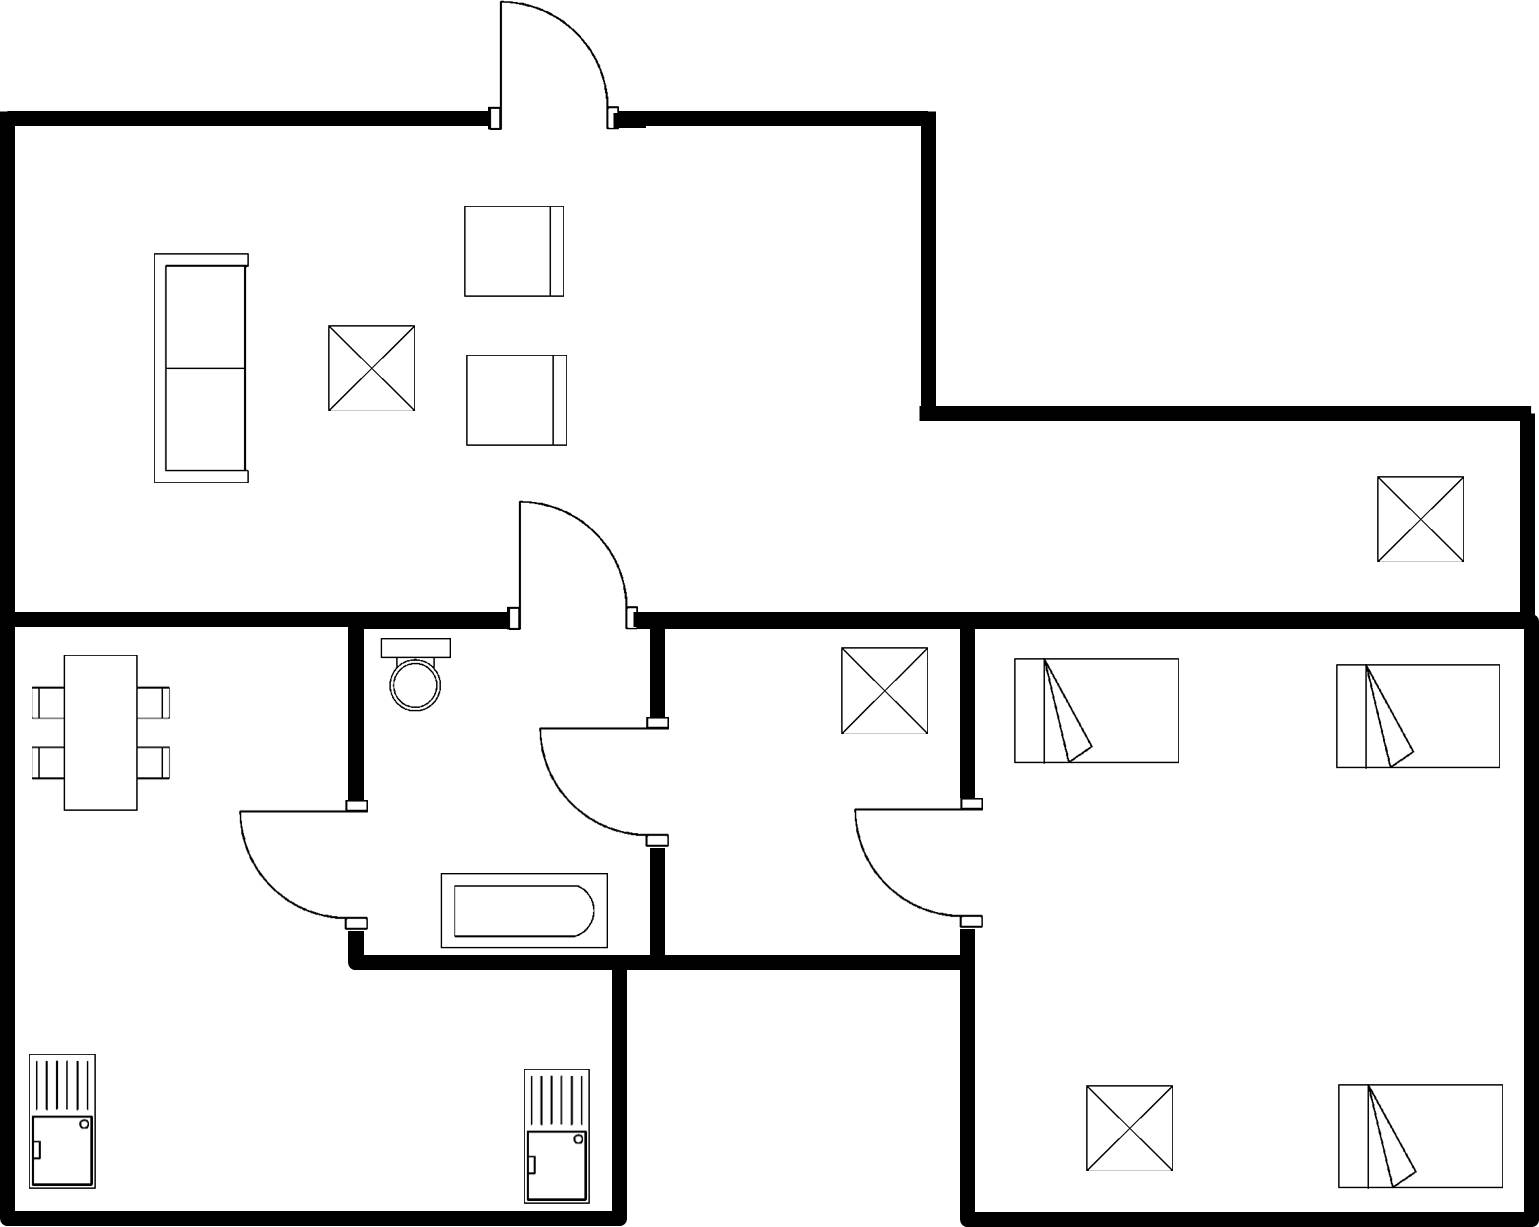bed: (1001, 647, 1193, 779), (1328, 1067, 1514, 1197), (1322, 654, 1510, 779)
coffee_table: (828, 637, 940, 749), (1076, 1074, 1185, 1184), (1366, 467, 1477, 572), (318, 316, 426, 422)
dining_table: (26, 647, 177, 820)
large_sink: (373, 631, 466, 722)
large_sofa: (146, 249, 257, 494)
sink: (22, 1043, 108, 1198), (516, 1059, 601, 1212)
small_sofa: (451, 194, 572, 307), (454, 345, 577, 457)
tub: (432, 862, 620, 950)
